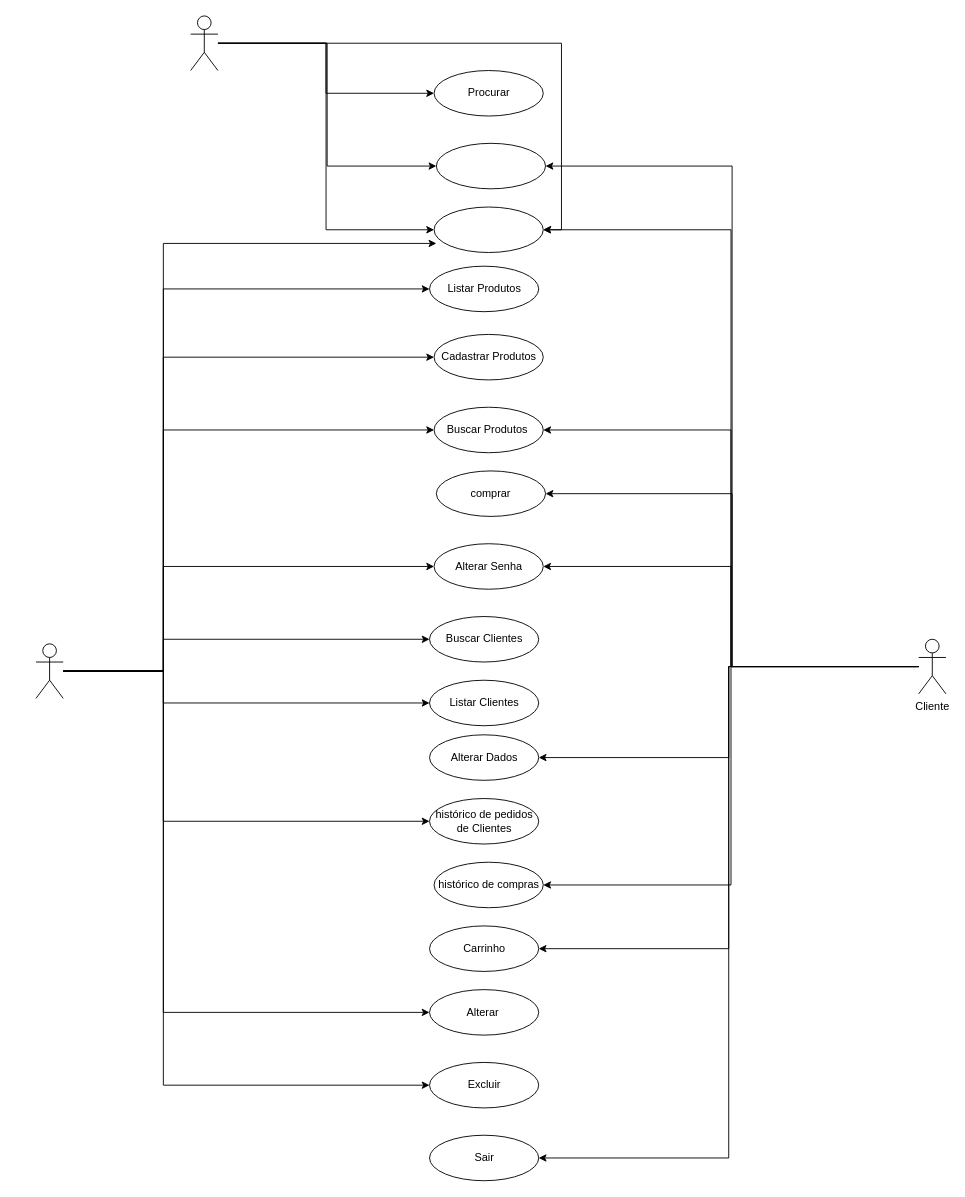
This 965x1197 diagram has some shape labels left out. Here are the shapes that lost their labels. From the top down, the centre of each, then its label:
At (x=204, y=43): "Visitante".
At (x=490, y=165): "Registrar".
At (x=488, y=229): "Logar".
At (x=49, y=670): "Administrador".
